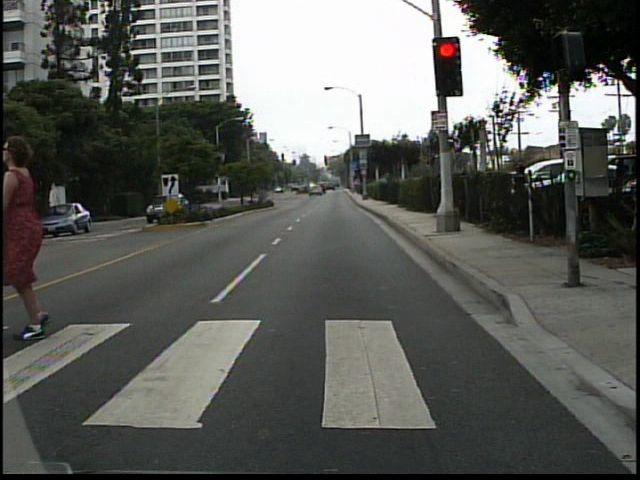person: (6, 131, 77, 341)
